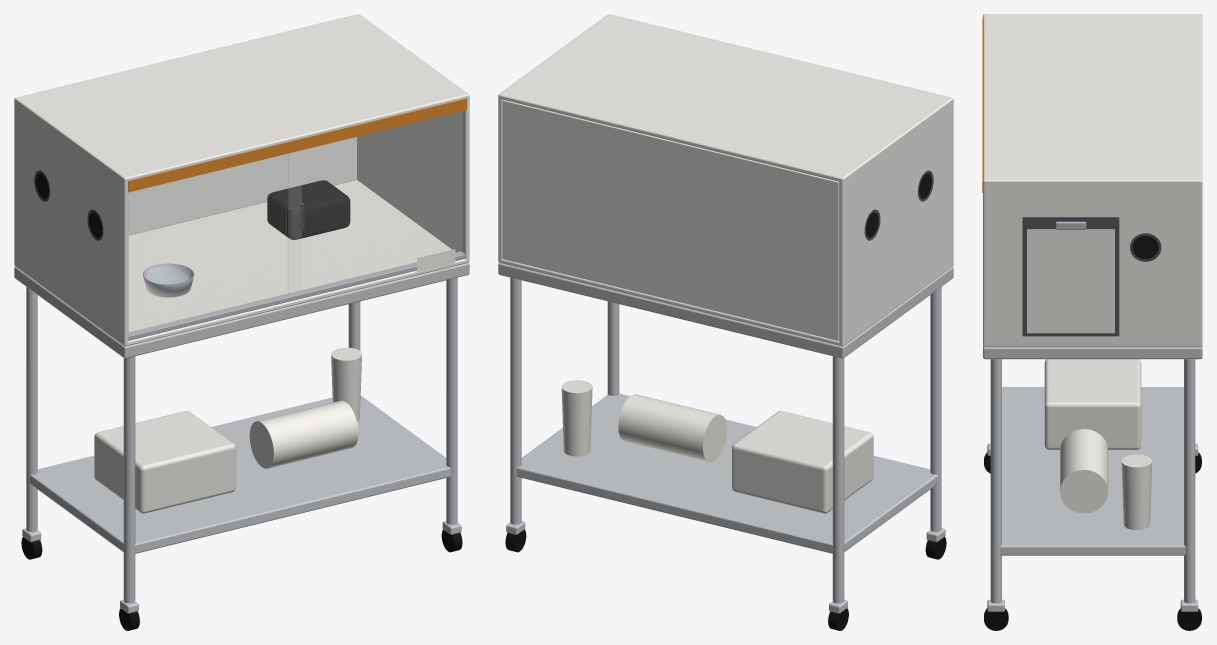
Rendered from quarantine.glb.
3 renders of one model, left to right at view 1: azimuth 30°, elevation 25°; view 2: azimuth 150°, elevation 25°; view 3: azimuth 270°, elevation 25°, orthographic.
Visible parts, largest first — view 1: quarantine__pvc_white, quarantine__glass__noshadow, quarantine__stainless__noshadow, quarantine__paper__noshadow, quarantine__plastic_white, quarantine__label_amber, quarantine__plastic_black, quarantine__aluminium, quarantine__rubber_black; view 2: quarantine__pvc_white, quarantine__stainless__noshadow, quarantine__plastic_white, quarantine__paper__noshadow, quarantine__rubber_black; view 3: quarantine__pvc_white, quarantine__stainless__noshadow, quarantine__paper__noshadow, quarantine__plastic_white, quarantine__plastic_grey, quarantine__rubber_black, quarantine__perforated__noshadow.
Boxes of the visible parts, x1=… form: quarantine__pvc_white: x1=14, y1=14, x2=469, y2=346; quarantine__glass__noshadow: x1=129, y1=112, x2=461, y2=334; quarantine__stainless__noshadow: x1=14, y1=263, x2=469, y2=613; quarantine__paper__noshadow: x1=128, y1=182, x2=449, y2=468; quarantine__plastic_white: x1=94, y1=347, x2=361, y2=513; quarantine__label_amber: x1=128, y1=98, x2=466, y2=192; quarantine__plastic_black: x1=267, y1=180, x2=350, y2=239; quarantine__aluminium: x1=128, y1=251, x2=465, y2=340; quarantine__rubber_black: x1=21, y1=529, x2=462, y2=630; quarantine__pvc_white: x1=498, y1=14, x2=953, y2=346; quarantine__stainless__noshadow: x1=498, y1=263, x2=953, y2=613; quarantine__plastic_white: x1=561, y1=380, x2=873, y2=513; quarantine__paper__noshadow: x1=618, y1=394, x2=727, y2=462; quarantine__rubber_black: x1=505, y1=529, x2=946, y2=630; quarantine__pvc_white: x1=983, y1=14, x2=1202, y2=347; quarantine__stainless__noshadow: x1=983, y1=346, x2=1202, y2=611; quarantine__paper__noshadow: x1=1027, y1=229, x2=1114, y2=513; quarantine__plastic_white: x1=1044, y1=359, x2=1152, y2=530; quarantine__plastic_grey: x1=1022, y1=217, x2=1161, y2=336; quarantine__rubber_black: x1=984, y1=452, x2=1201, y2=630; quarantine__perforated__noshadow: x1=1132, y1=235, x2=1158, y2=259.
Bounding box in the file's own units: 0.9128 × 1.14 × 0.502.
